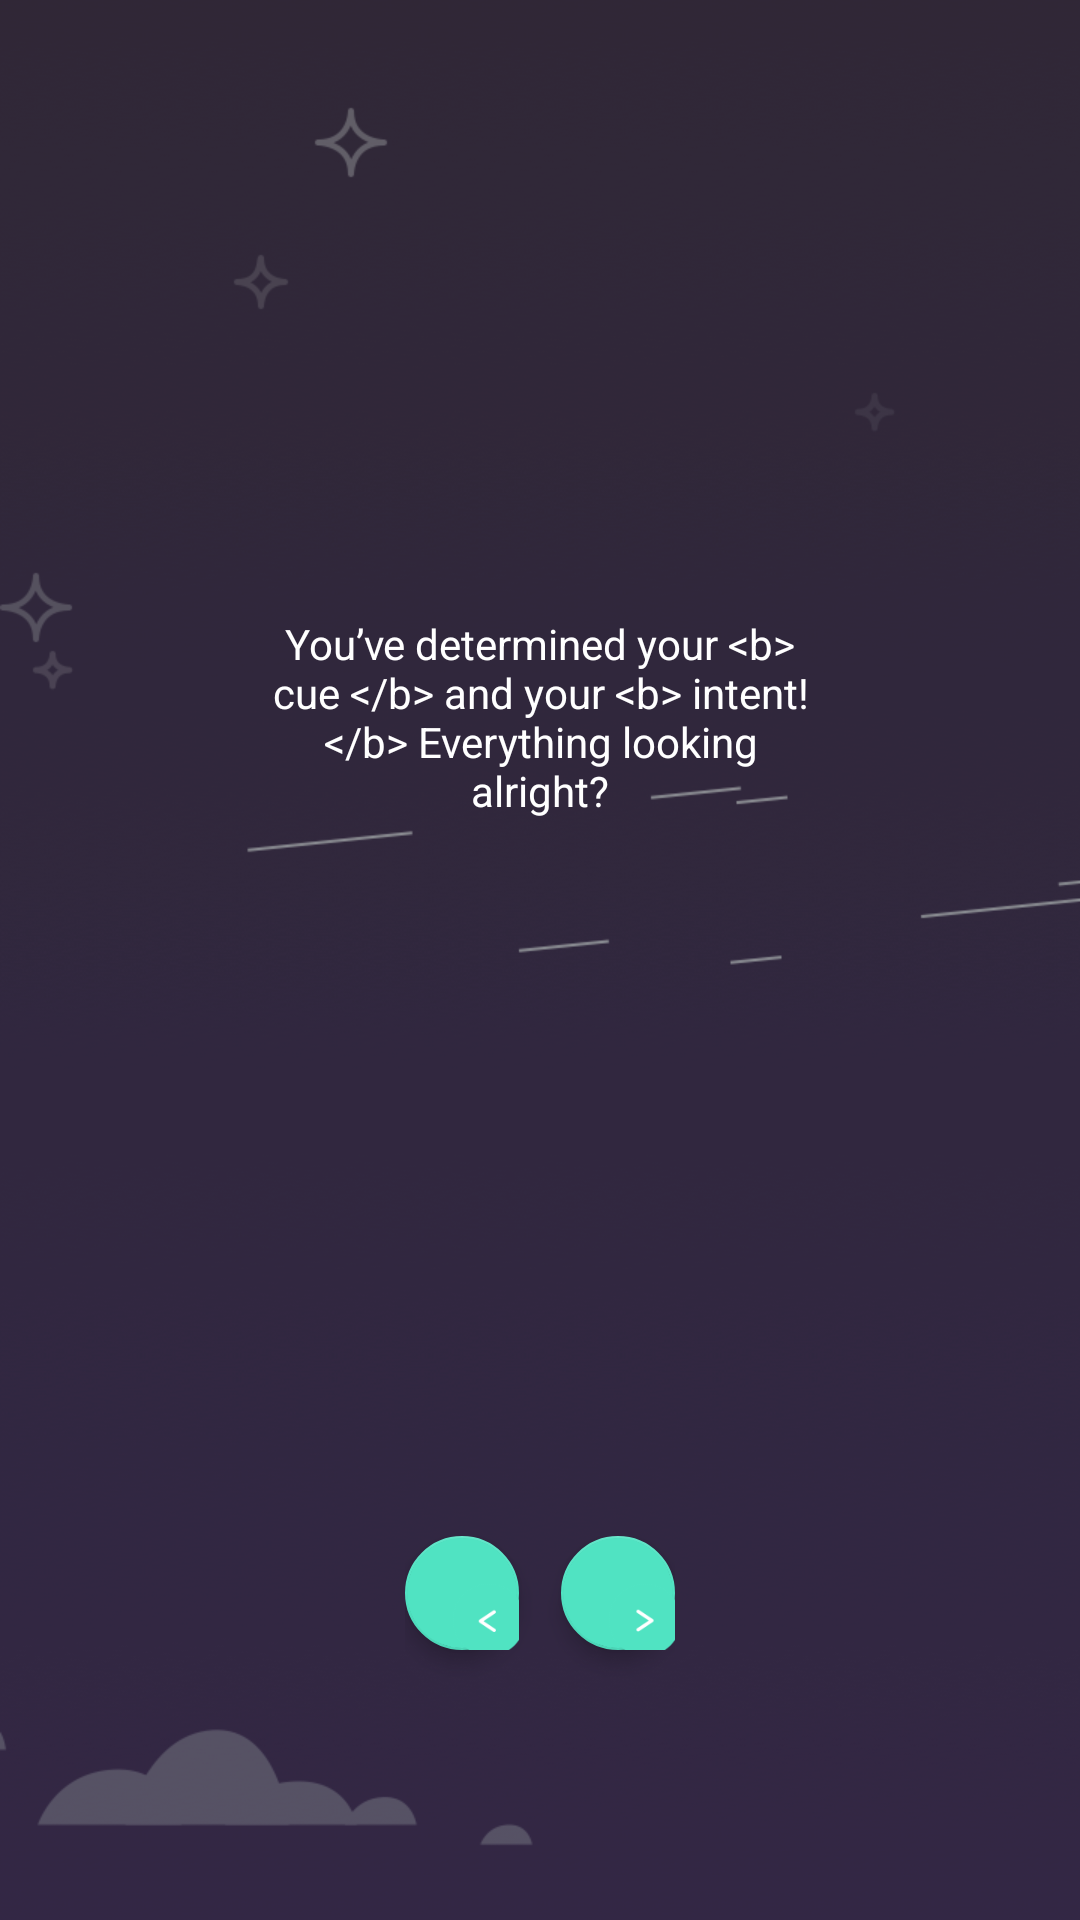

Screen size 1080 x 1920. Icon name, then its box in pixels as (x1, y1, x2, y2):
steps next: (561, 1536, 675, 1650)
steps previous: (405, 1536, 519, 1650)
